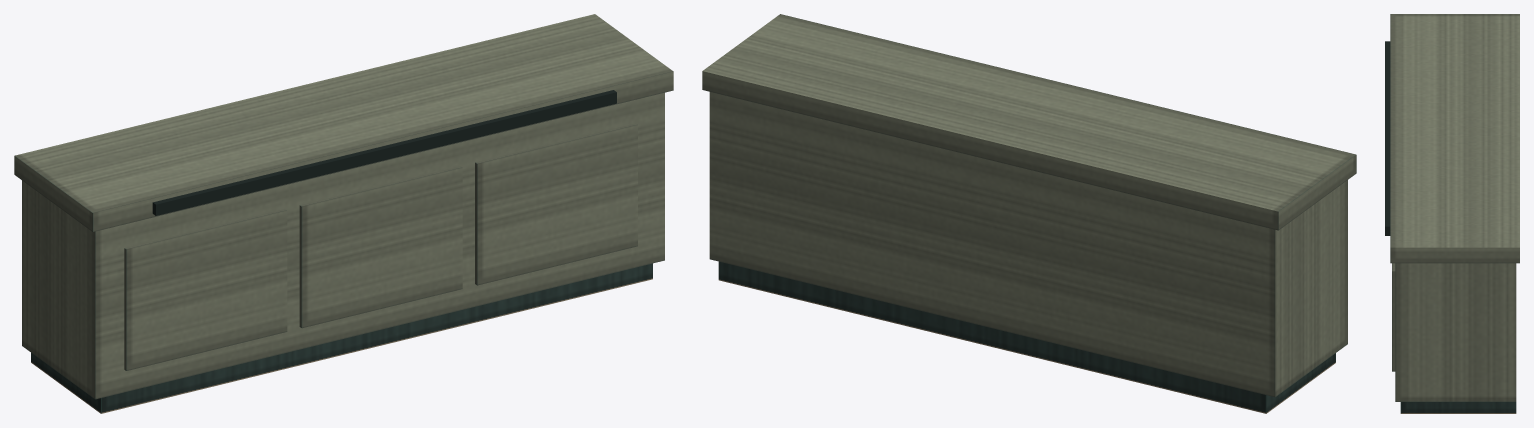
Rendered from SM_LabProp_Reception_Lobby_320x80x110.fbx.
3 renders of one model, left to right at view 1: azimuth 30°, elevation 25°; view 2: azimuth 150°, elevation 25°; view 3: azimuth 270°, elevation 25°, orthographic. The views are drawn at different scales.
Visible parts, largest first — view 1: SM_LabProp_Reception_Lobby_320x80x110.001; view 2: SM_LabProp_Reception_Lobby_320x80x110.001; view 3: SM_LabProp_Reception_Lobby_320x80x110.001.
Boxes of the visible parts, <box> form: SM_LabProp_Reception_Lobby_320x80x110.001: <box>14,14,673,413</box>; SM_LabProp_Reception_Lobby_320x80x110.001: <box>702,14,1356,413</box>; SM_LabProp_Reception_Lobby_320x80x110.001: <box>1385,14,1519,413</box>.
Size of the model in its own units: 3.2 by 1.1 by 0.78.
